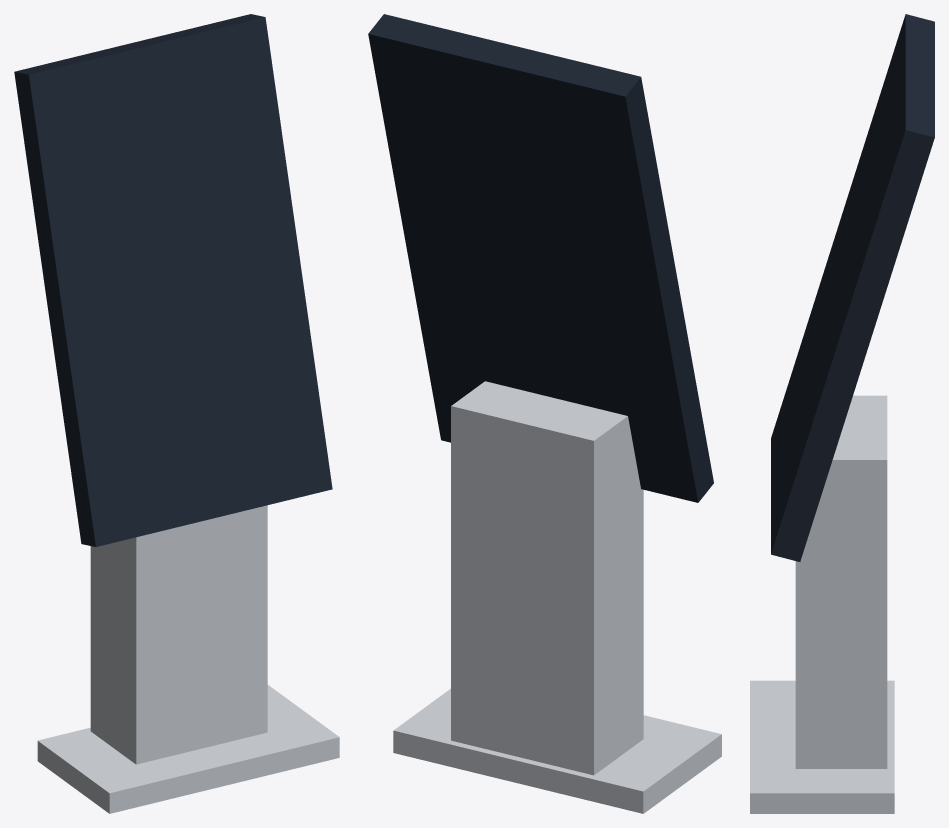
Rendered from screen-kiosk.glb.
The picture shows the model from 3 angles, left to right: view 1: azimuth 30°, elevation 25°; view 2: azimuth 150°, elevation 25°; view 3: azimuth 270°, elevation 25°; orthographic projection. The views are drawn at different scales.
Size of the model in its own units: 0.72 by 1.99 by 0.4853.
